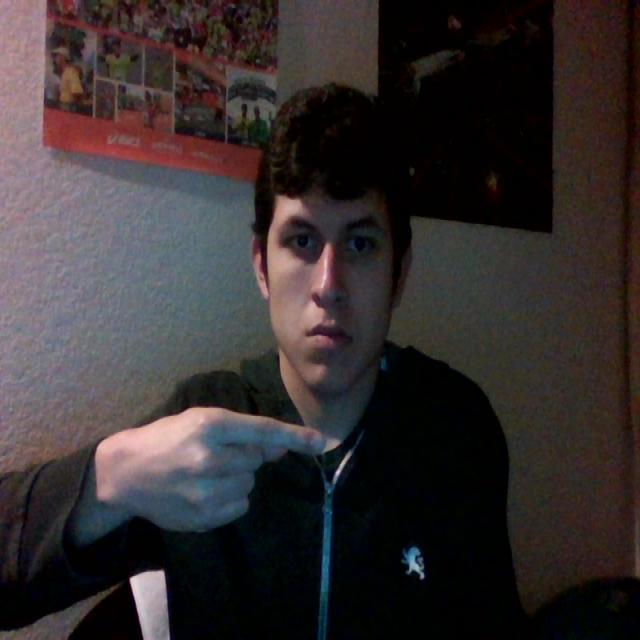G: (75, 392, 347, 569)
